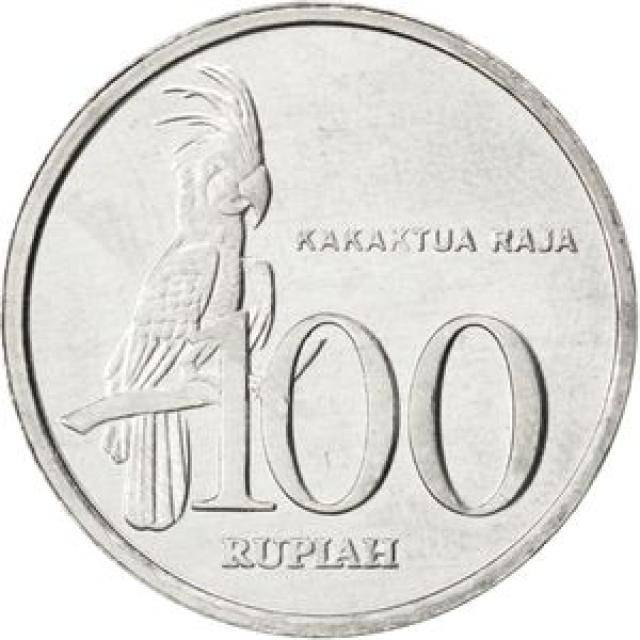500-silver: (2, 5, 635, 634)
